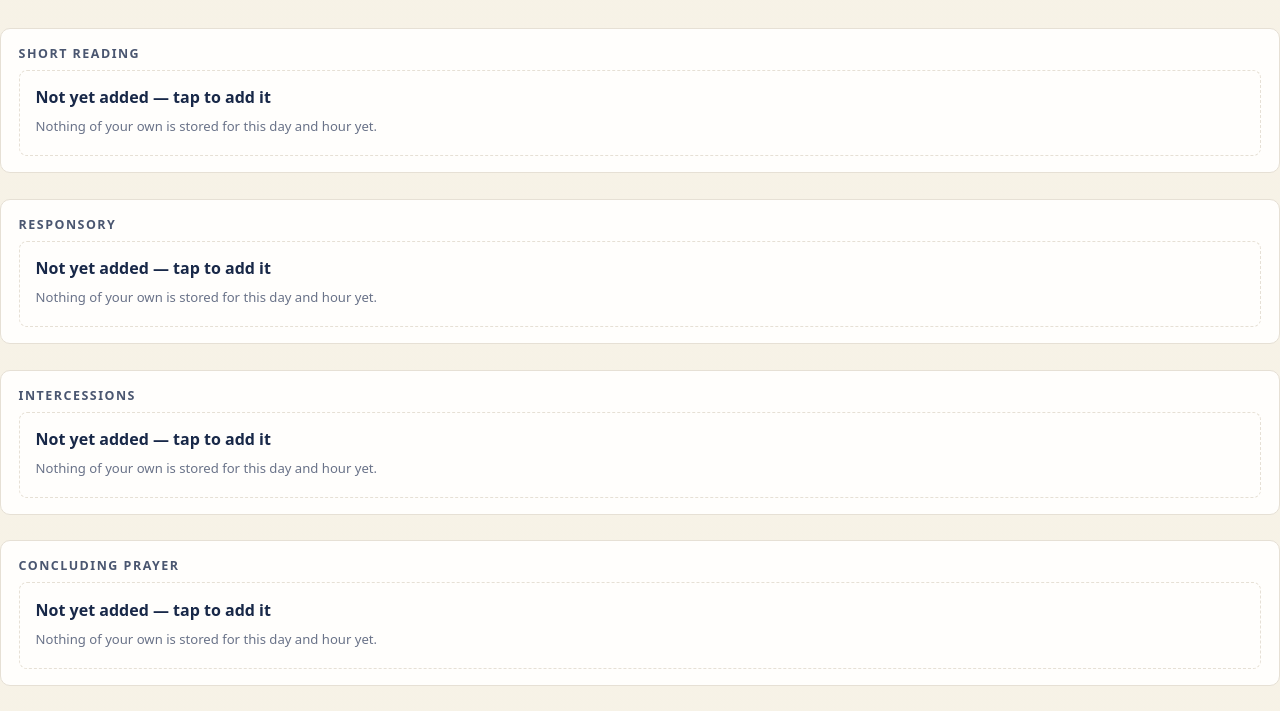
Scenario: 2: each section can be added and appears at once › concludingPrayer
(page scrolled)
Click the button with aria-label "Add the concluding prayer for Morning Prayer, Tuesday of the" at (153,610), box [19,582,1261,669]
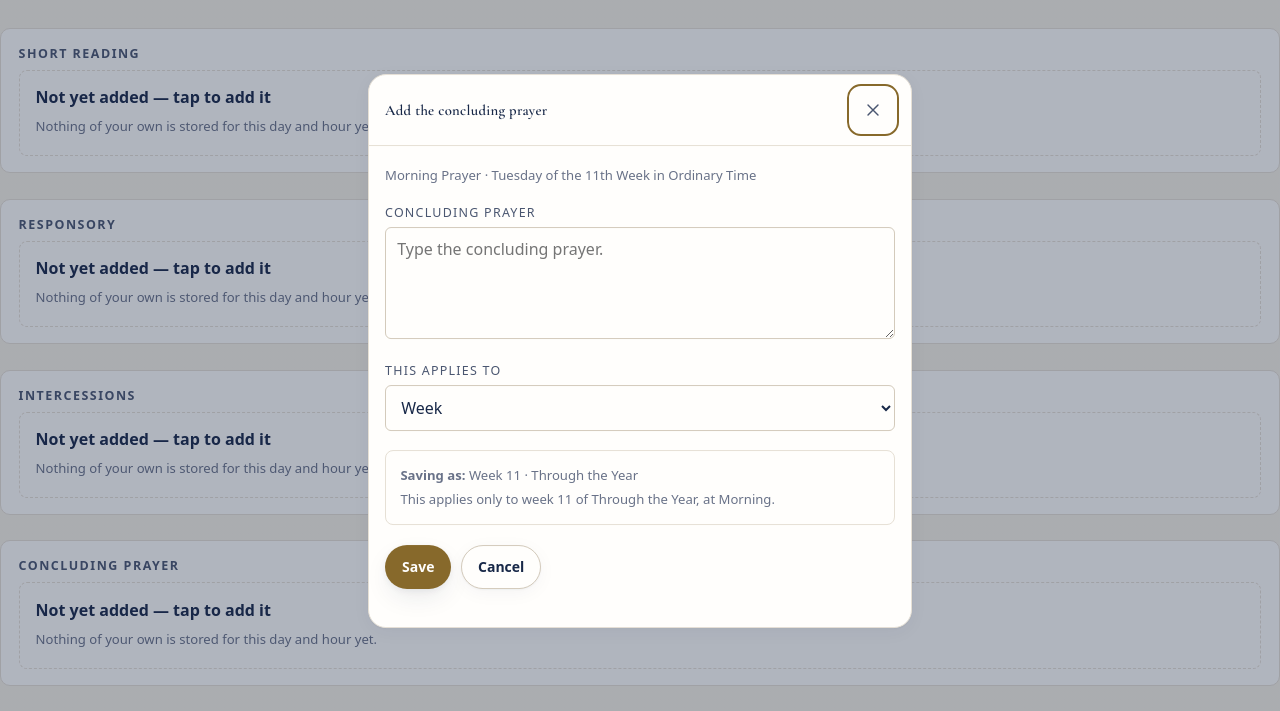
Type "Almighty God, hear us." into the text box labelled "Concluding prayer" at (640,283), box [385,227,895,339]
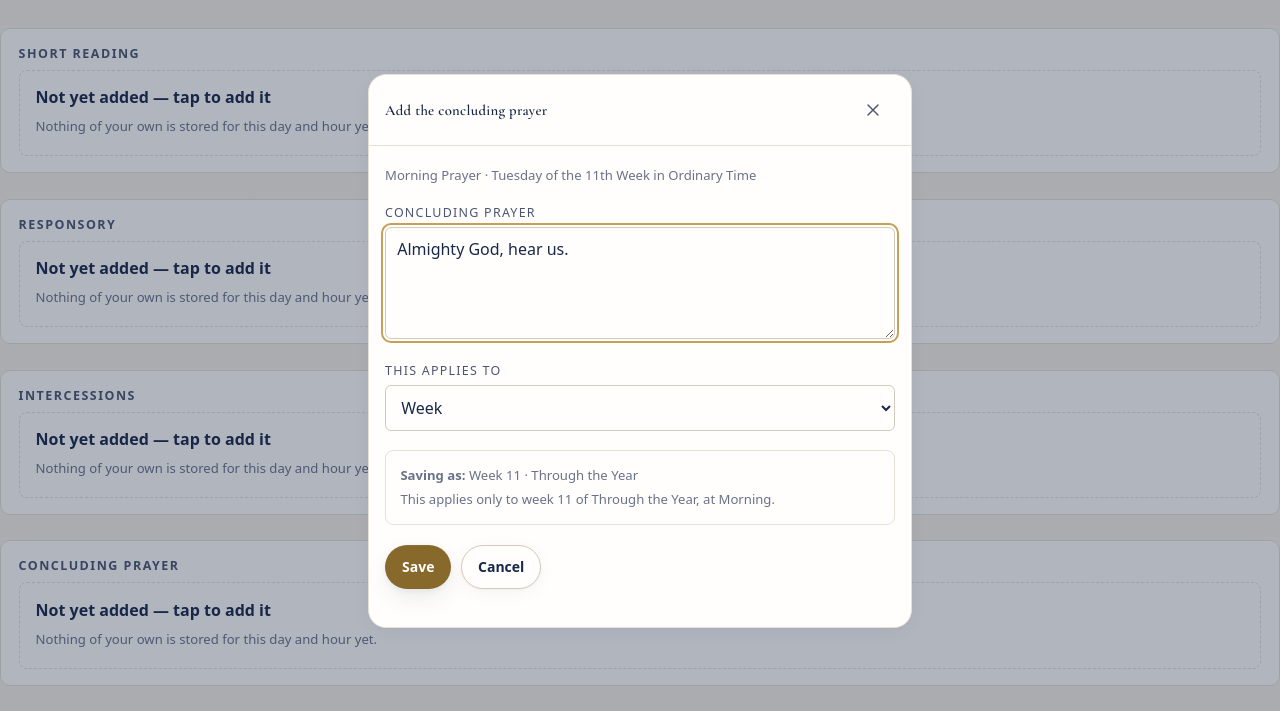
Click the button "Save" at (418,567), box [385,545,451,589]
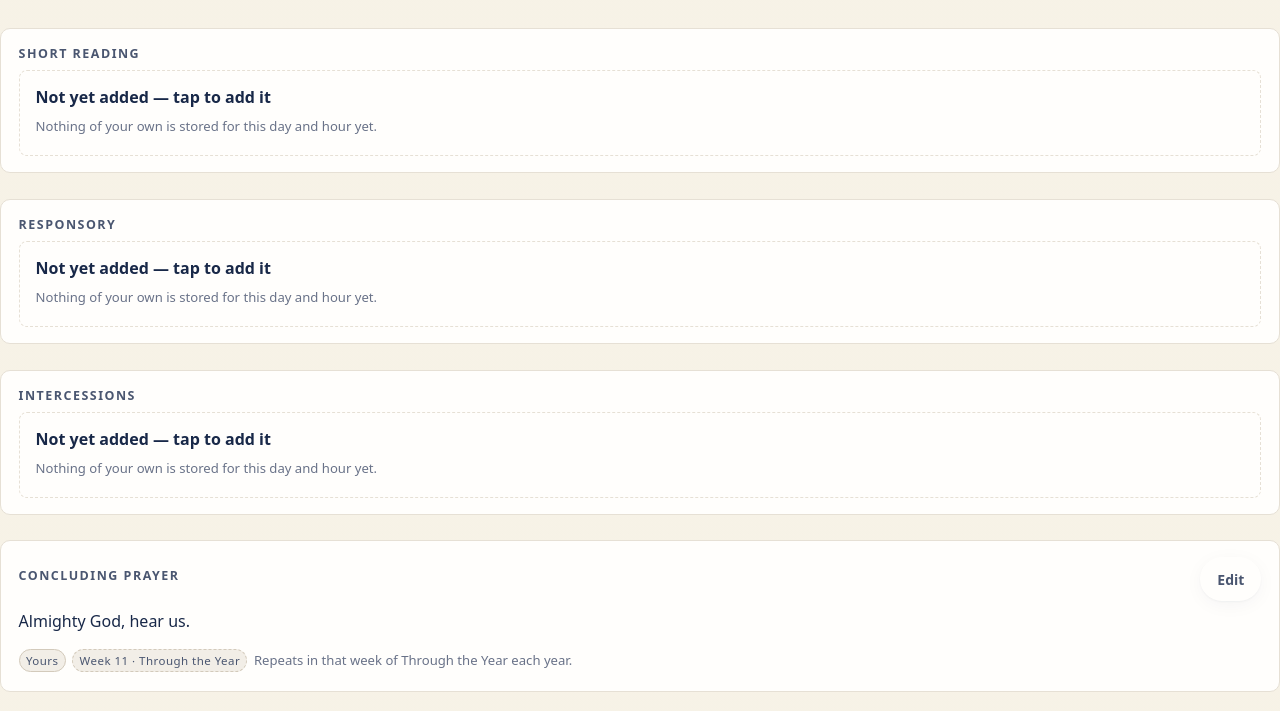
Result: the text "Almighty God, hear us." is shown at [19,610,190,632]
